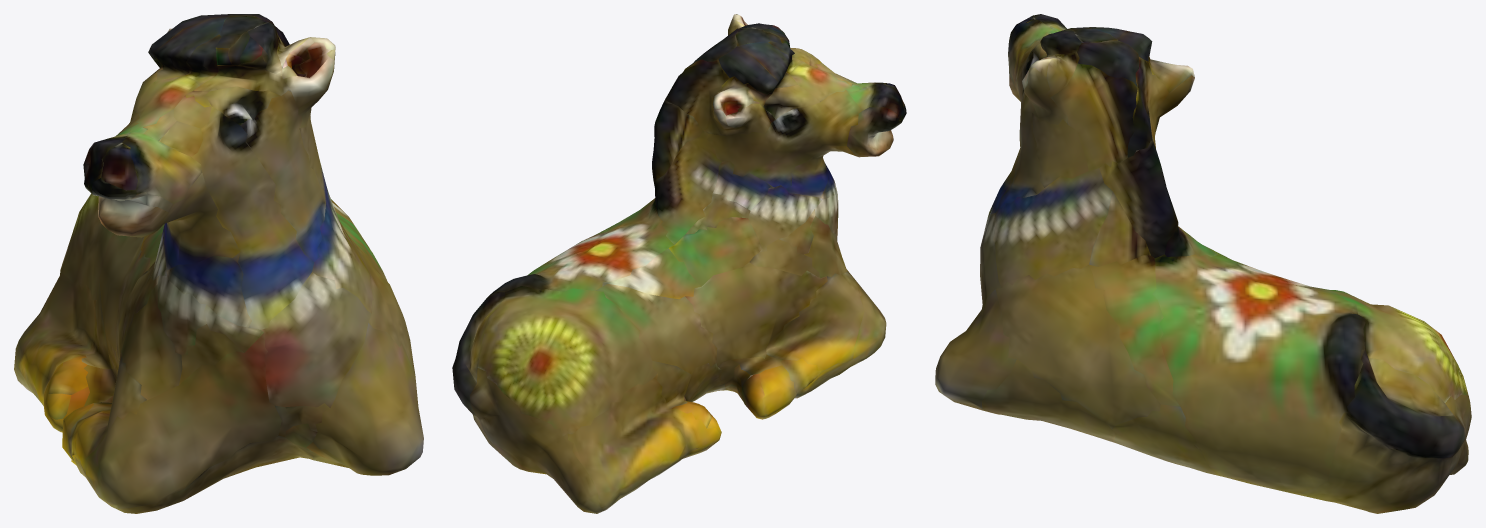
File: hall.glb
3 renders of one model, left to right at view 1: azimuth 30°, elevation 25°; view 2: azimuth 150°, elevation 25°; view 3: azimuth 270°, elevation 25°, orthographic. The views are drawn at different scales.
Size of the model in its own units: 0.6671 by 0.8022 by 0.8938.
1 material, 1 textured.
